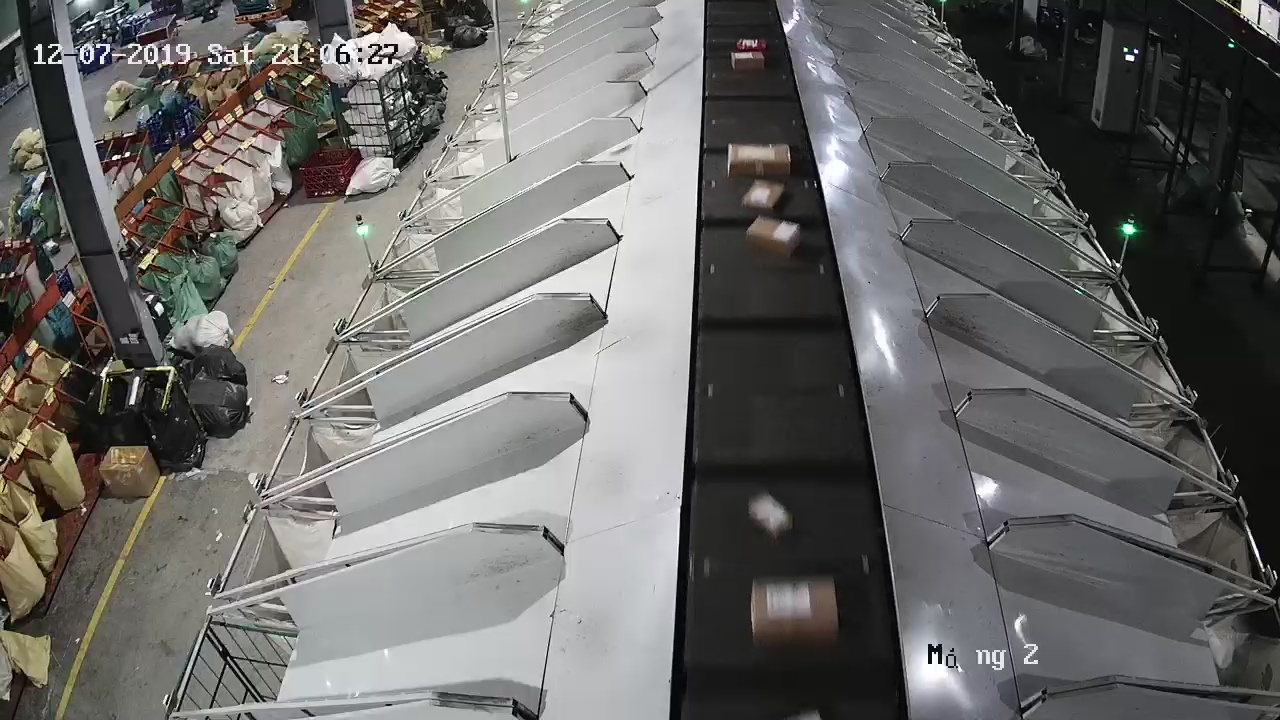parcel: (609, 143, 632, 155)
